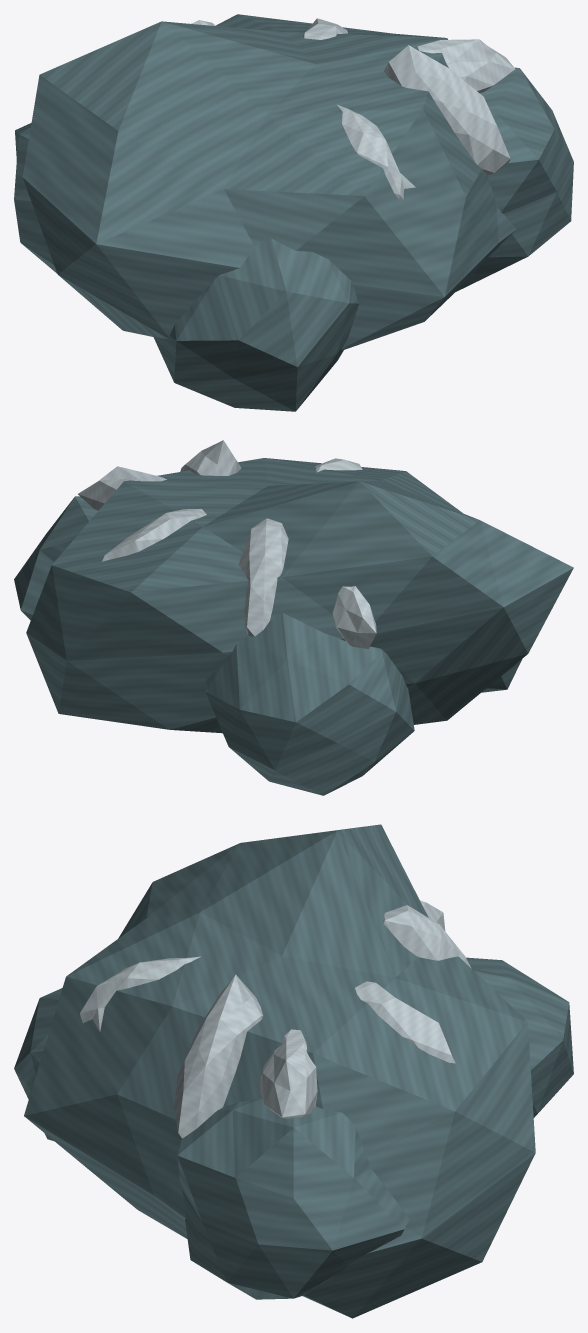
File: underworld-resource-rimesilver.glb
3 renders of one model, top to bottom at view 1: azimuth 30°, elevation 25°; view 2: azimuth 150°, elevation 25°; view 3: azimuth 270°, elevation 25°, orthographic. The views are drawn at different scales.
Visible parts, largest first — view 1: host-rock, attached-matrix-2, attached-matrix-0, embedded-vein-5, embedded-vein-0, embedded-vein-2, attached-matrix-1, embedded-vein-3; view 2: host-rock, attached-matrix-1, embedded-vein-6, attached-matrix-0, embedded-vein-1, embedded-vein-3, embedded-vein-0, embedded-vein-5; view 3: host-rock, attached-matrix-0, embedded-vein-5, attached-matrix-1, embedded-vein-0, embedded-vein-3, embedded-vein-6, embedded-vein-2, attached-matrix-2.
Part boxes in pixels (<box>): host-rock: <box>22,14,516,350</box>; attached-matrix-2: <box>153,238,359,411</box>; attached-matrix-0: <box>456,67,573,291</box>; embedded-vein-5: <box>384,45,510,175</box>; embedded-vein-0: <box>417,39,514,93</box>; embedded-vein-2: <box>337,104,415,199</box>; attached-matrix-1: <box>14,123,57,273</box>; embedded-vein-3: <box>303,18,347,39</box>; host-rock: <box>26,458,573,733</box>; attached-matrix-1: <box>204,612,414,795</box>; embedded-vein-6: <box>238,518,288,636</box>; attached-matrix-0: <box>14,496,98,620</box>; embedded-vein-1: <box>332,586,376,648</box>; embedded-vein-3: <box>102,509,206,561</box>; embedded-vein-0: <box>78,466,166,510</box>; embedded-vein-5: <box>180,440,241,475</box>; host-rock: <box>24,824,535,1318</box>; attached-matrix-0: <box>177,1098,409,1299</box>; embedded-vein-5: <box>174,974,263,1138</box>; attached-matrix-1: <box>466,957,573,1117</box>; embedded-vein-0: <box>259,1029,317,1118</box>; embedded-vein-3: <box>355,981,455,1063</box>; embedded-vein-6: <box>383,905,471,968</box>; embedded-vein-2: <box>80,956,200,1031</box>; attached-matrix-2: <box>14,988,62,1140</box>.
Bounding box in the file's own units: 0.2537 × 0.1401 × 0.2141.
Materials: 2 (2 with a texture image).
